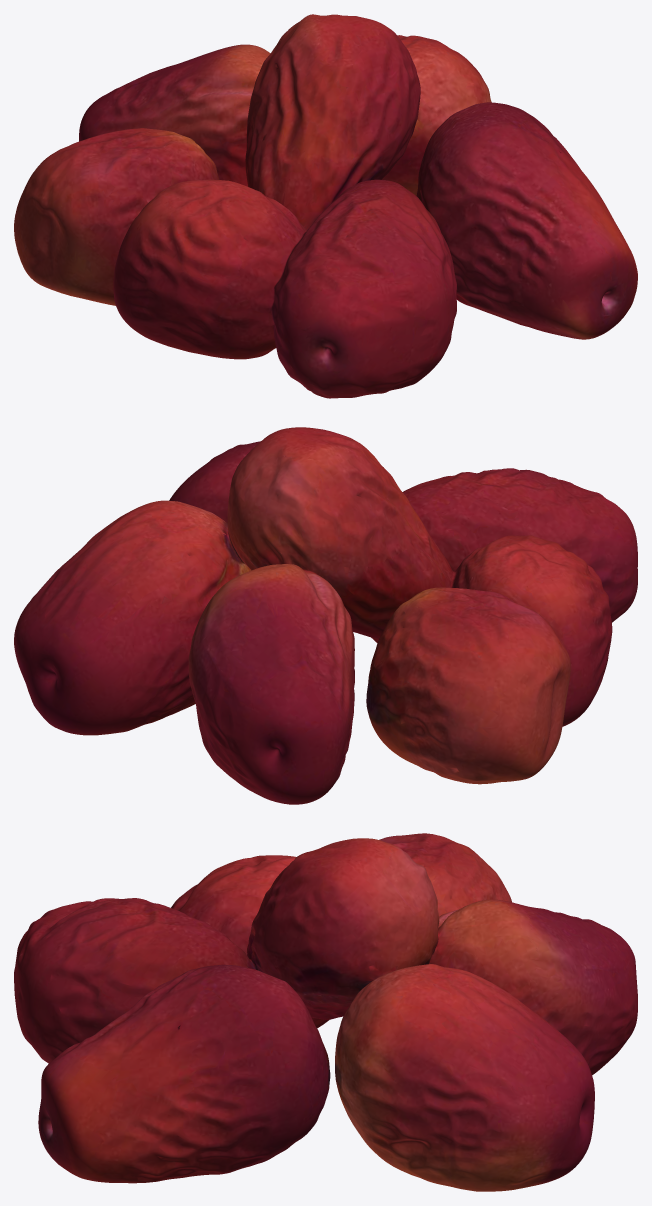
The model's file is jujubes.glb.
3 views of the same model, one above another, from view 1: azimuth 30°, elevation 25°; view 2: azimuth 150°, elevation 25°; view 3: azimuth 270°, elevation 25° (orthographic). The views are drawn at different scales.
Visible parts, largest first — view 1: Meshy_AI_Dried_Jujubes_0528201151_texture; view 2: Meshy_AI_Dried_Jujubes_0528201151_texture; view 3: Meshy_AI_Dried_Jujubes_0528201151_texture.
Boxes of the visible parts, bbox=[...] form: Meshy_AI_Dried_Jujubes_0528201151_texture: bbox=[14, 14, 637, 398]; Meshy_AI_Dried_Jujubes_0528201151_texture: bbox=[14, 427, 637, 804]; Meshy_AI_Dried_Jujubes_0528201151_texture: bbox=[14, 833, 637, 1191].
Bounding box in the file's own units: 1.75 × 0.8628 × 1.9.
1 material, 1 textured.
